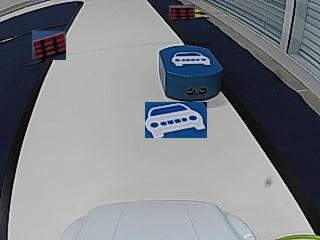safety: (171, 51, 212, 66)
